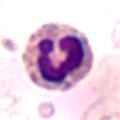eosi: (23, 22, 96, 91)
